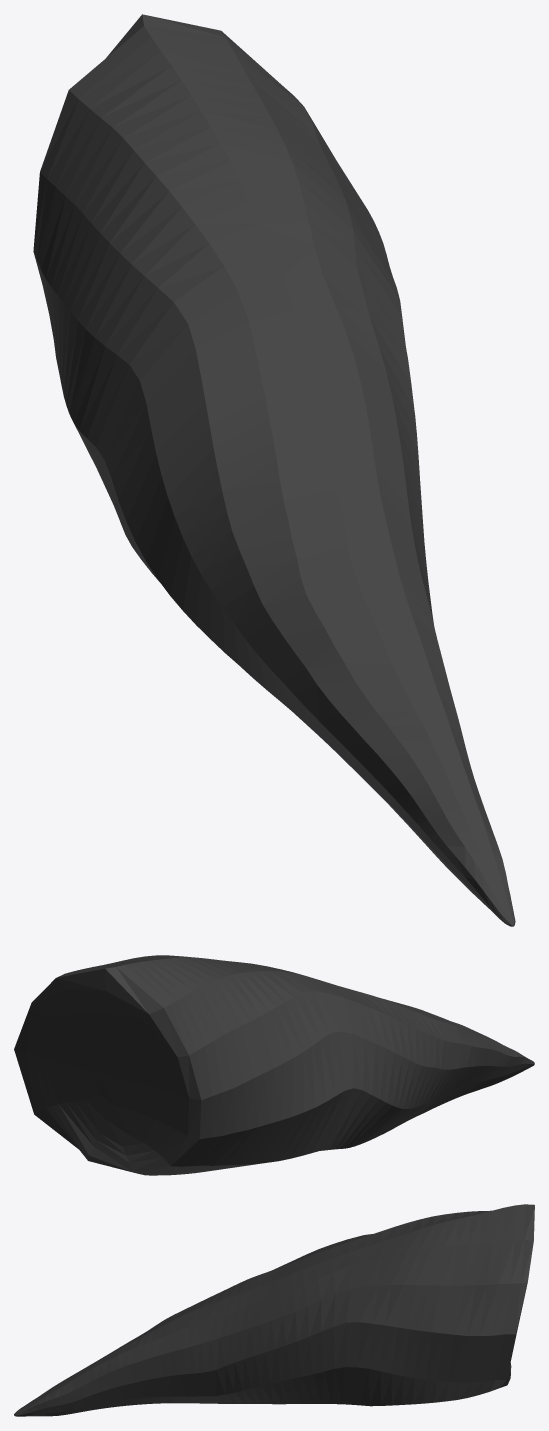
File: digastricus_r.glb
3 renders of one model, top to bottom at view 1: azimuth 30°, elevation 25°; view 2: azimuth 150°, elevation 25°; view 3: azimuth 270°, elevation 25°, orthographic. The views are drawn at different scales.
Parts seen in each view (by area): view 1: digastricus_r; view 2: digastricus_r; view 3: digastricus_r.
Boxes of the visible parts, x1,y1,x2,y2 form: digastricus_r: [33, 14, 515, 926]; digastricus_r: [14, 955, 534, 1175]; digastricus_r: [14, 1204, 534, 1416].
Size of the model in its own units: 0.395 by 0.485 by 0.9242.
Materials: 1 (1 with a texture image).
